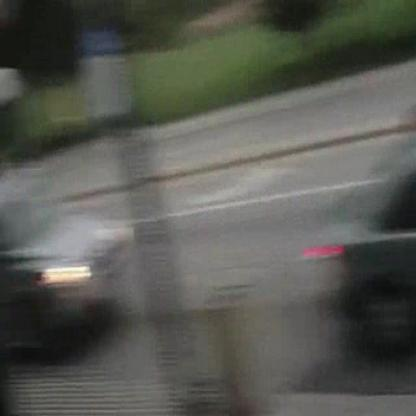other: (28, 252, 109, 304), (295, 240, 354, 266)
